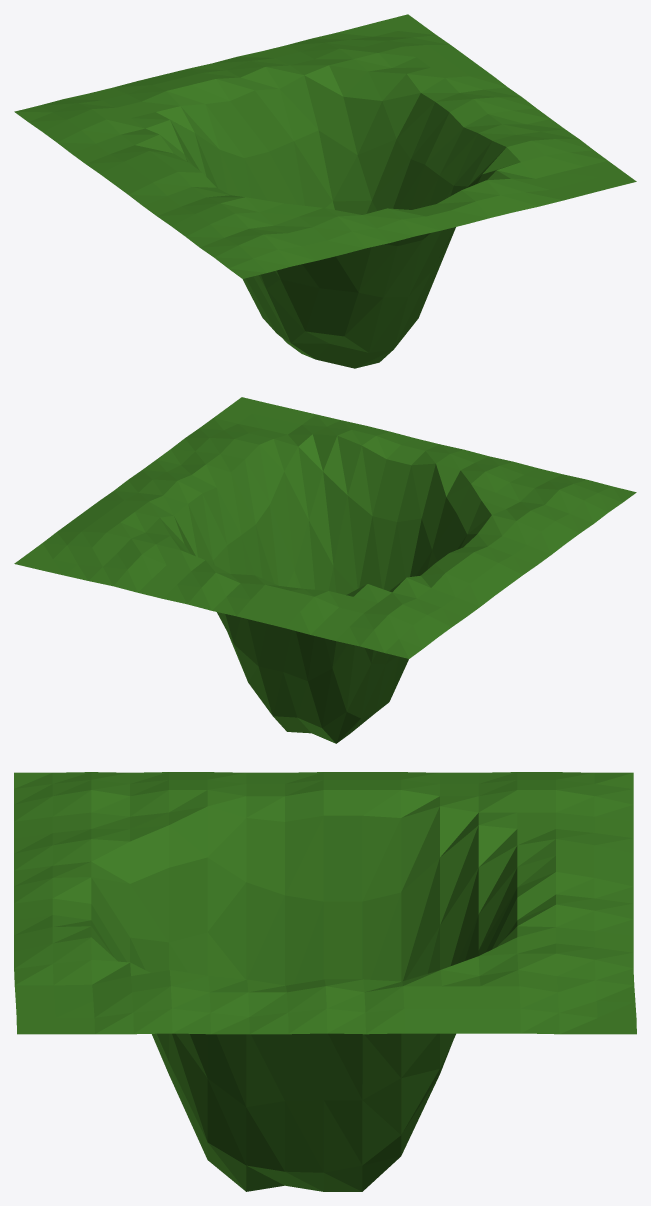
Rendered from ground5.fbx.
3 renders of one model, top to bottom at view 1: azimuth 30°, elevation 25°; view 2: azimuth 150°, elevation 25°; view 3: azimuth 270°, elevation 25°, orthographic. The views are drawn at different scales.
Visible parts, largest first — view 1: Plane; view 2: Plane; view 3: Plane.
Part boxes in pixels (x1,y1,x2,y2): Plane: (14, 14, 636, 368); Plane: (14, 397, 636, 743); Plane: (14, 772, 636, 1191).
Size of the model in its own units: 99.9 by 51.19 by 101.
Materials: 1 (1 with a texture image).
